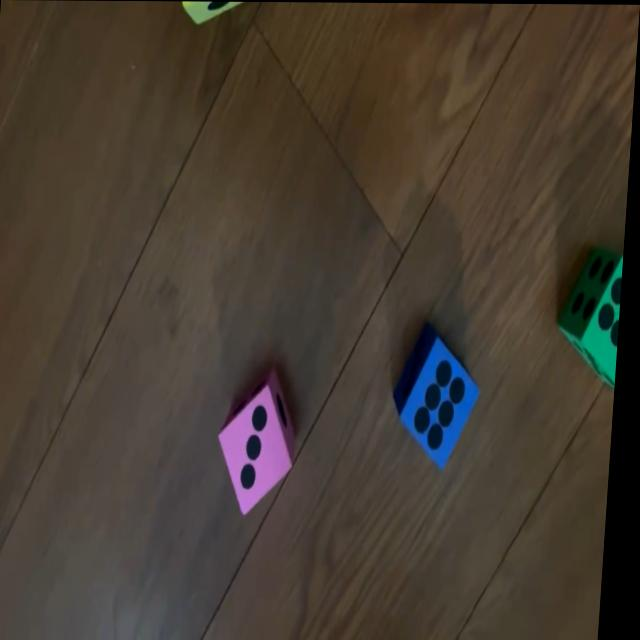cube: (393, 320, 488, 468), (562, 251, 627, 389)
